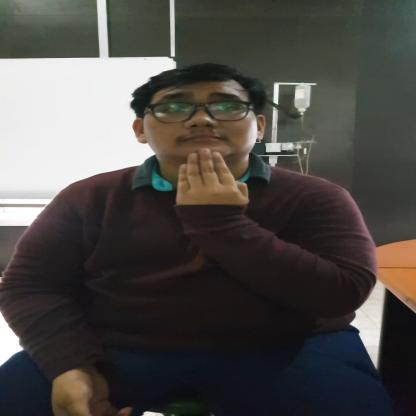Selamat-Terimakasih: (164, 148, 254, 224)
